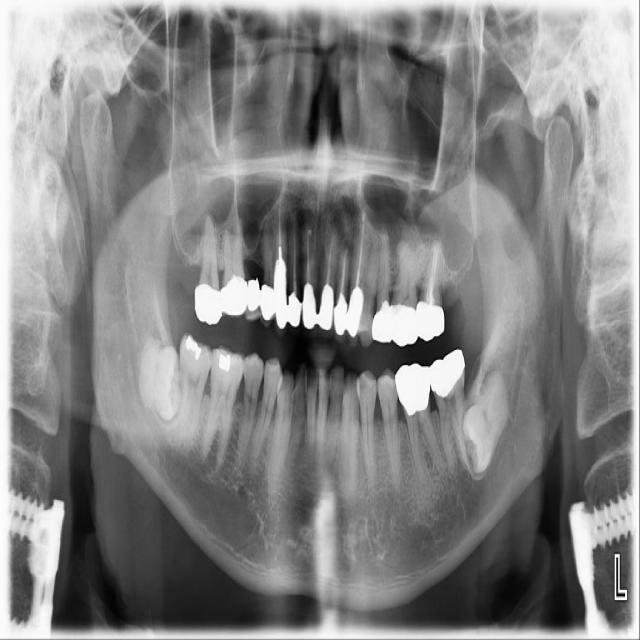Crown: (394, 363, 431, 417), (430, 347, 466, 396), (388, 301, 418, 347), (415, 300, 445, 342), (219, 275, 248, 317), (194, 284, 222, 326), (274, 257, 288, 337), (347, 285, 363, 348), (318, 283, 335, 339), (372, 300, 393, 344), (302, 282, 317, 336), (333, 292, 347, 345), (260, 284, 276, 325), (287, 292, 302, 328), (246, 280, 260, 318)
Filling: (211, 350, 236, 374), (184, 336, 206, 358)
Root Canal Treatment: (355, 214, 365, 287), (425, 246, 437, 304), (292, 229, 297, 294), (306, 228, 311, 284), (326, 239, 332, 285), (341, 249, 345, 294), (278, 201, 282, 244)
impacted tooth: (463, 367, 510, 473), (138, 335, 181, 419)
